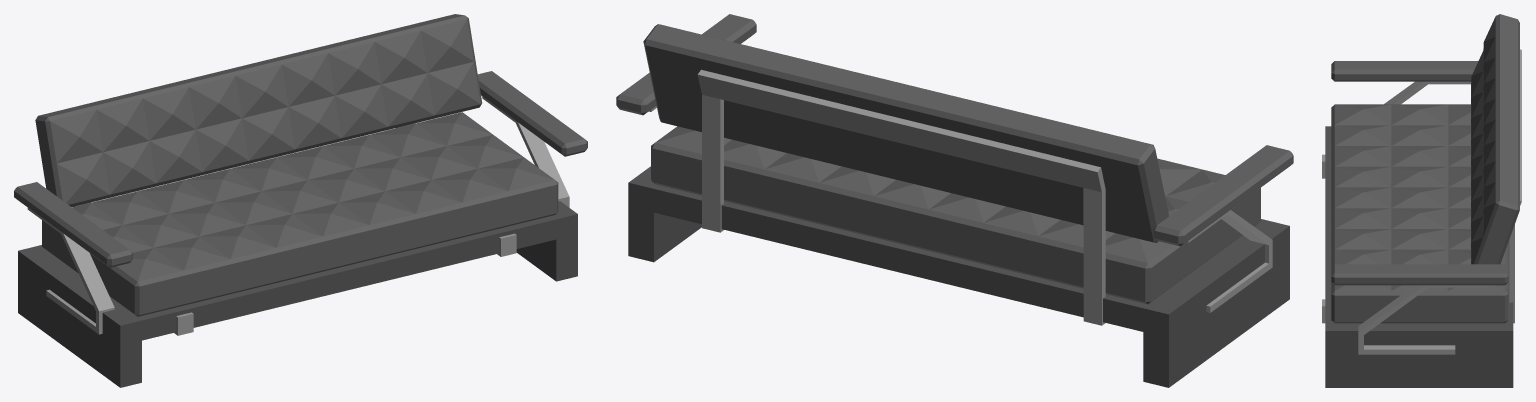
The model's file is couch_C.FBX.
3 renders of one model, left to right at view 1: azimuth 30°, elevation 25°; view 2: azimuth 150°, elevation 25°; view 3: azimuth 270°, elevation 25°, orthographic. The views are drawn at different scales.
Parts seen in each view (by area): view 1: couch_C; view 2: couch_C; view 3: couch_C.
Boxes of the visible parts, bbox=[...] form: couch_C: bbox=[14, 14, 587, 387]; couch_C: bbox=[616, 14, 1293, 387]; couch_C: bbox=[1322, 14, 1521, 387].
Size of the model in its own units: 111 by 43.1 by 43.54.
